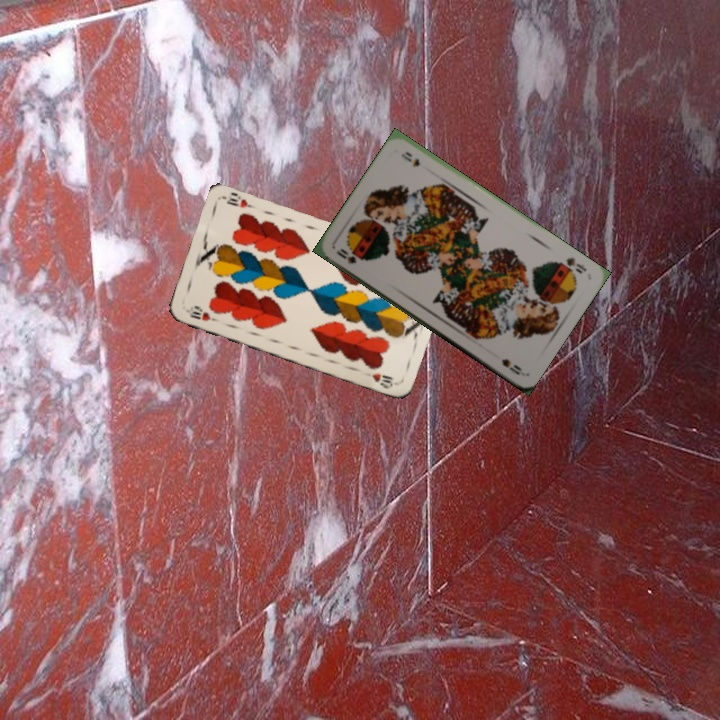H10: (182, 303, 221, 325)
SO: (332, 244, 365, 267), (556, 253, 589, 276)
